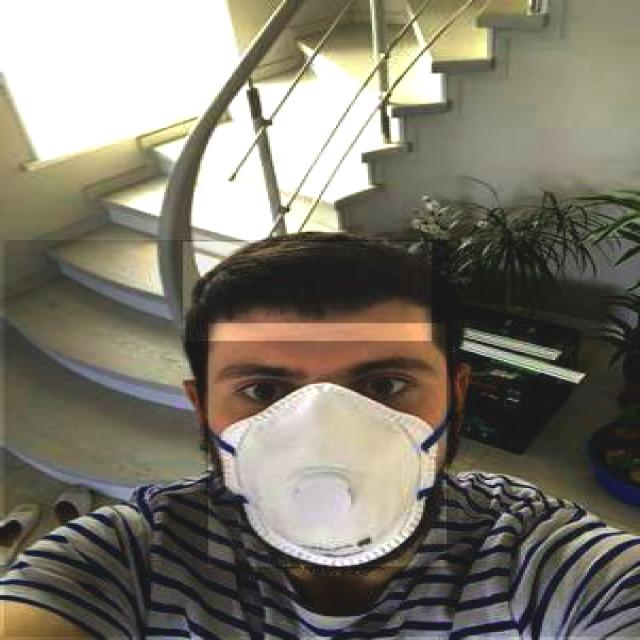face_mask: (206, 323, 447, 568)
head_nohelmet: (182, 242, 432, 341)
person: (2, 240, 640, 638)
